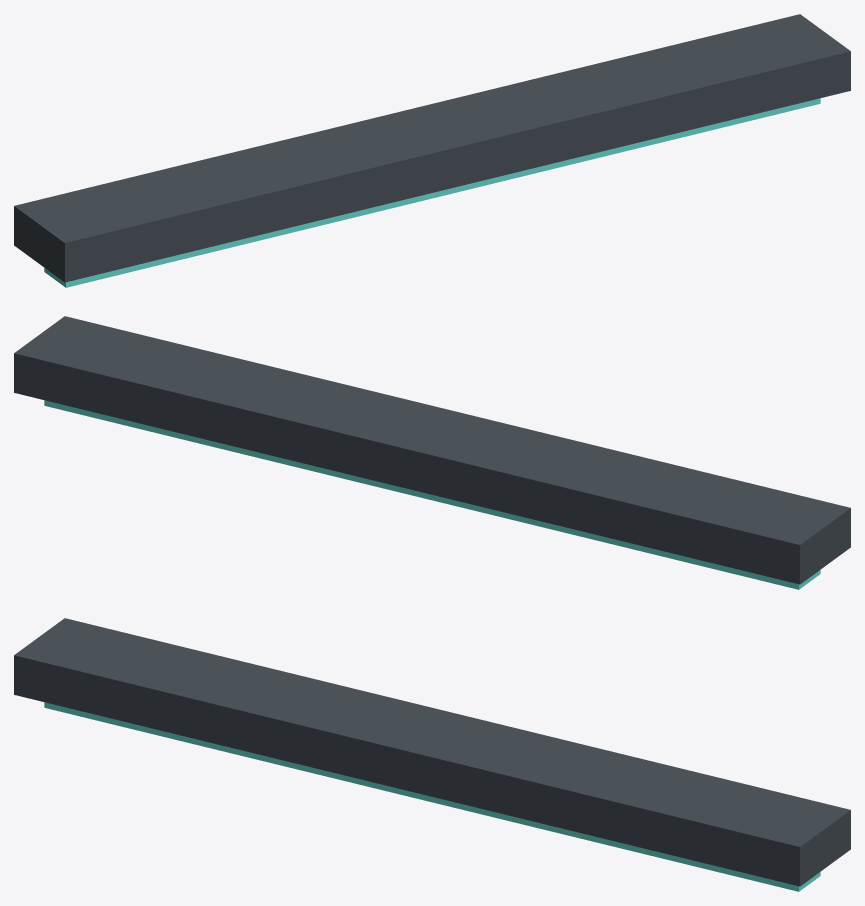
Rendered from GD_Fluorescent_01.glb.
The picture shows the model from 3 angles, top to bottom: view 1: azimuth 30°, elevation 25°; view 2: azimuth 150°, elevation 25°; view 3: azimuth 330°, elevation 25°; orthographic projection.
Parts seen in each view (by area): view 1: GD_Fluorescent_01; view 2: GD_Fluorescent_01; view 3: GD_Fluorescent_01.
Part boxes in pixels (bbox=[...]): GD_Fluorescent_01: bbox=[14, 14, 850, 287]; GD_Fluorescent_01: bbox=[14, 316, 850, 589]; GD_Fluorescent_01: bbox=[14, 618, 850, 891].
Bounding box in the file's own units: 1.25 × 0.09 × 0.14.
1 material, 1 textured.
